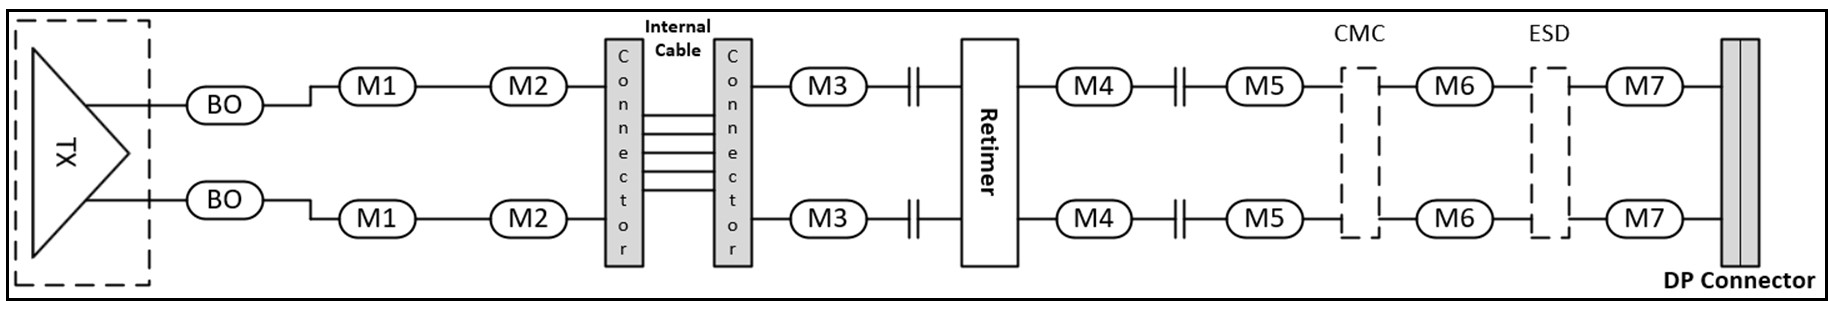capacitor: (901, 54, 932, 113), (898, 189, 928, 248), (1166, 61, 1196, 120), (1166, 184, 1196, 243)
dotted_rectangle: (4, 14, 157, 295), (1516, 58, 1574, 253), (1329, 58, 1387, 253)
oval: (479, 61, 576, 116), (1221, 192, 1318, 248), (181, 80, 275, 135), (173, 176, 268, 231), (331, 187, 426, 242), (478, 189, 573, 244), (326, 59, 421, 114), (1049, 60, 1144, 115), (1218, 60, 1313, 115), (1402, 189, 1497, 244), (1411, 59, 1506, 114), (1602, 65, 1697, 120), (1597, 194, 1691, 249), (777, 58, 872, 111), (780, 192, 874, 246), (1043, 192, 1138, 246)
rectangle: (957, 32, 1023, 276), (1707, 31, 1774, 275), (702, 33, 756, 280), (597, 29, 651, 276)
triangle: (23, 35, 131, 261)
